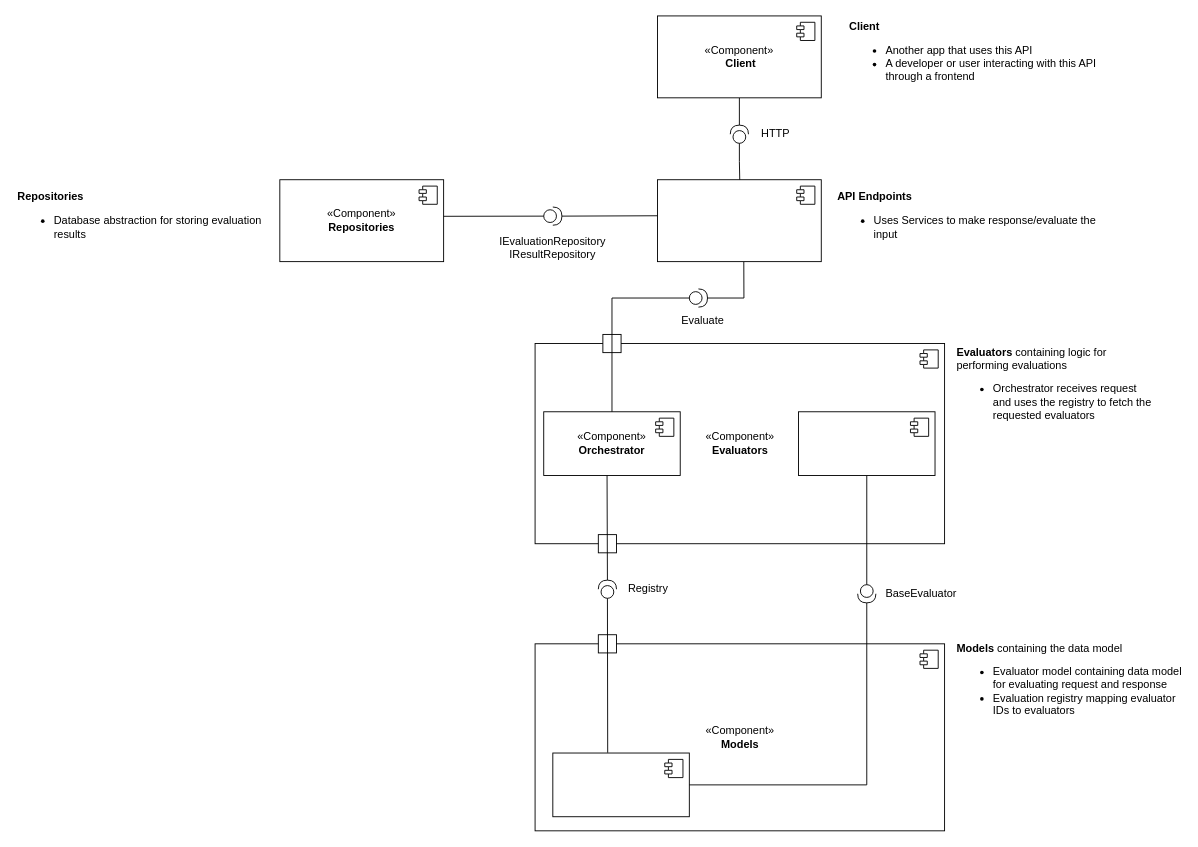
This 1198x847 diagram has some shape labels left out. The centre of each missing label's shape, as x and y in pixels:
"«Component» BaseEvaluator" belongs at [866,443].
"«Component» Endpoint handlers" belongs at [739,220].
"«Component» EvaluationRegistry" belongs at [620,784].
